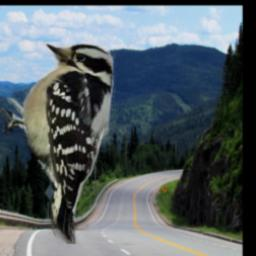Woodpecker: (0, 37, 117, 244)
